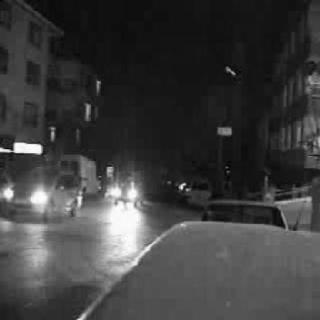other: (0, 178, 54, 214)
